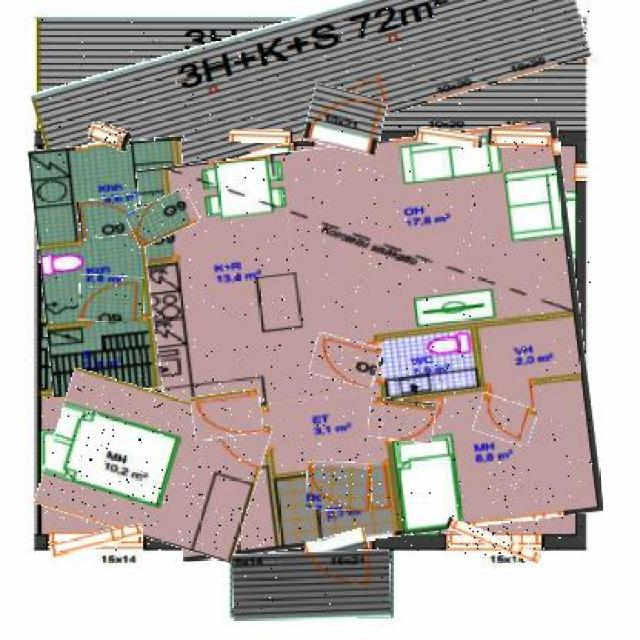door: (306, 86, 386, 152), (306, 532, 374, 588), (310, 337, 382, 385), (128, 194, 198, 243), (192, 391, 263, 438), (80, 274, 145, 321), (308, 462, 372, 509), (368, 398, 435, 442), (476, 397, 536, 441), (77, 195, 138, 237)
window: (444, 526, 542, 556), (51, 529, 143, 554), (488, 129, 550, 148), (416, 129, 482, 146), (88, 126, 130, 151), (231, 131, 295, 143)
zone: (148, 132, 592, 551), (32, 0, 590, 168), (34, 140, 198, 394), (42, 382, 264, 549), (234, 551, 391, 620)
